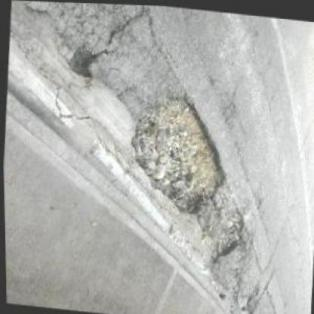Hueco: (122, 88, 236, 221), (206, 204, 249, 268), (66, 46, 100, 82), (232, 284, 260, 313)
